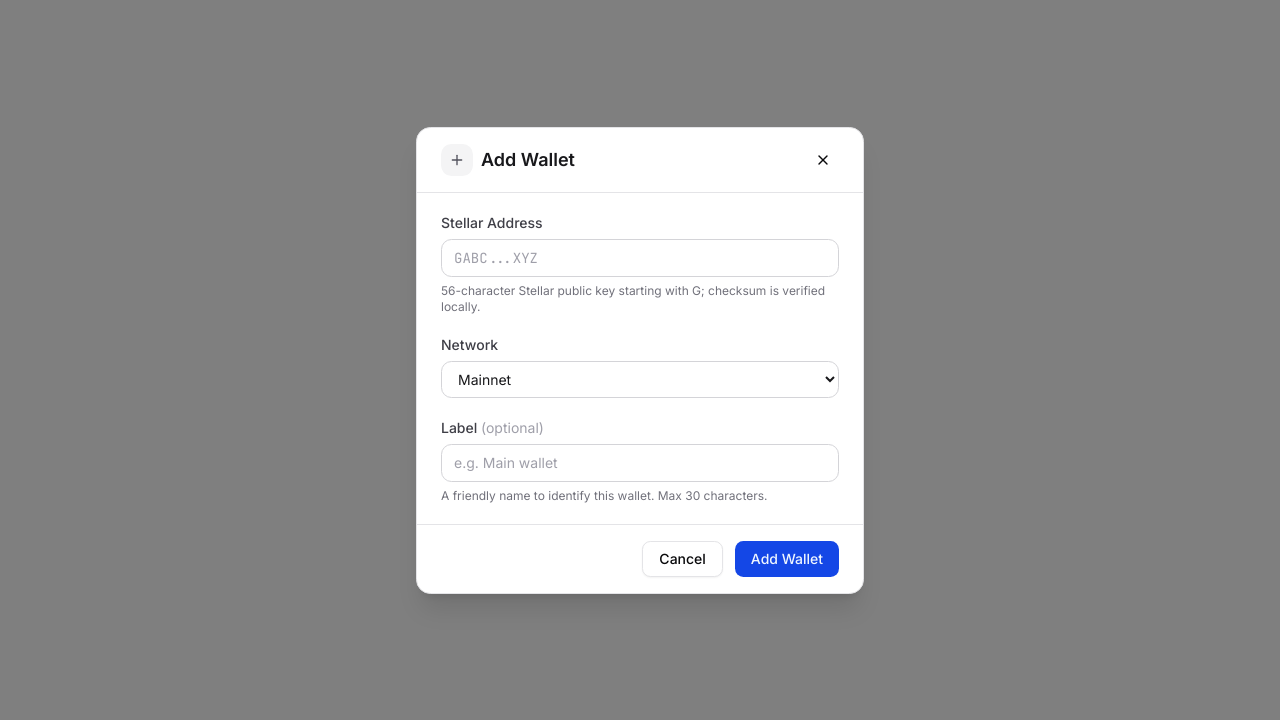
Test case: AddWalletModal address validation › shows an error for an address that doesn't start with G
Type "XBZXN7PIRZGNMHGA7MUUUF4GWPY5AYPV6LY4UV2GL6VJGIQRXFDNMADI" into the field labelled "Stellar Address".
click(640, 258); type("XBZXN7PIRZGNMHGA7MUUUF4GWPY5AYPV6LY4UV2GL6VJGIQRXFDNMADI")  # box top-left (441, 238), bottom-right (839, 276)
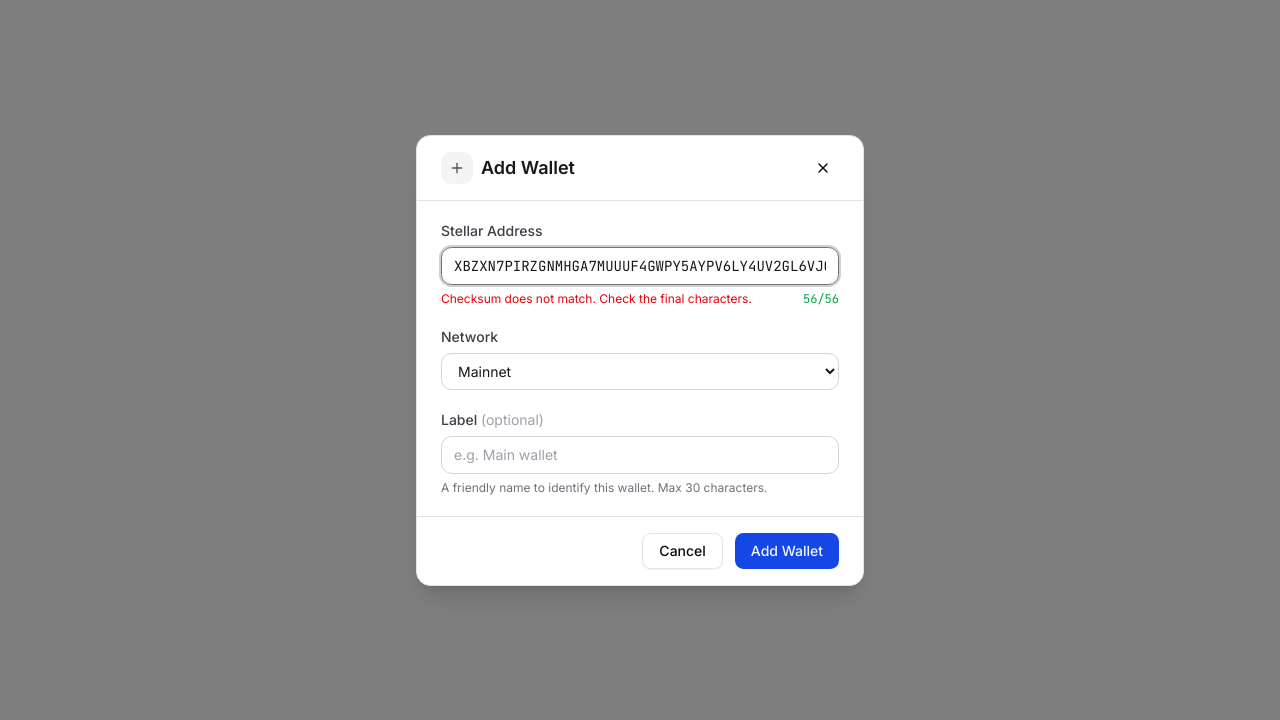
Click the button "Add Wallet".
click(787, 550)  # box top-left (735, 532), bottom-right (839, 568)
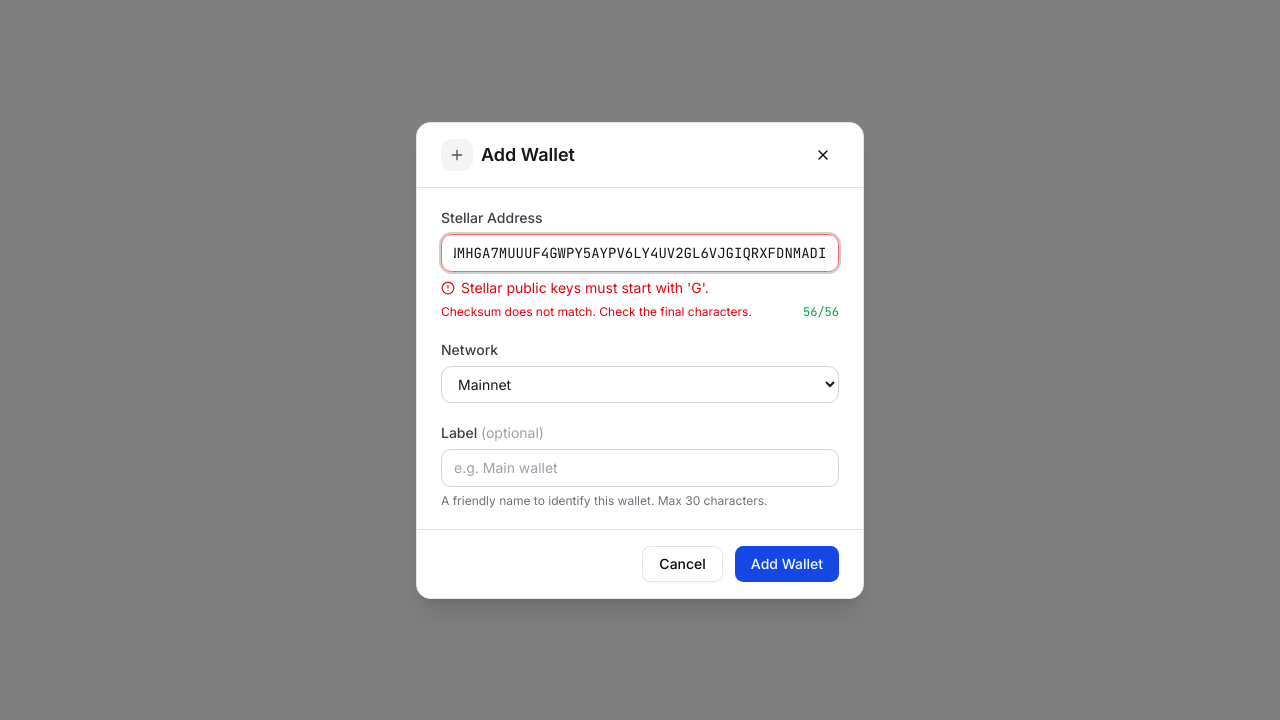
Now the message shows "start with 'G'", box top-left (461, 278), bottom-right (709, 296)
